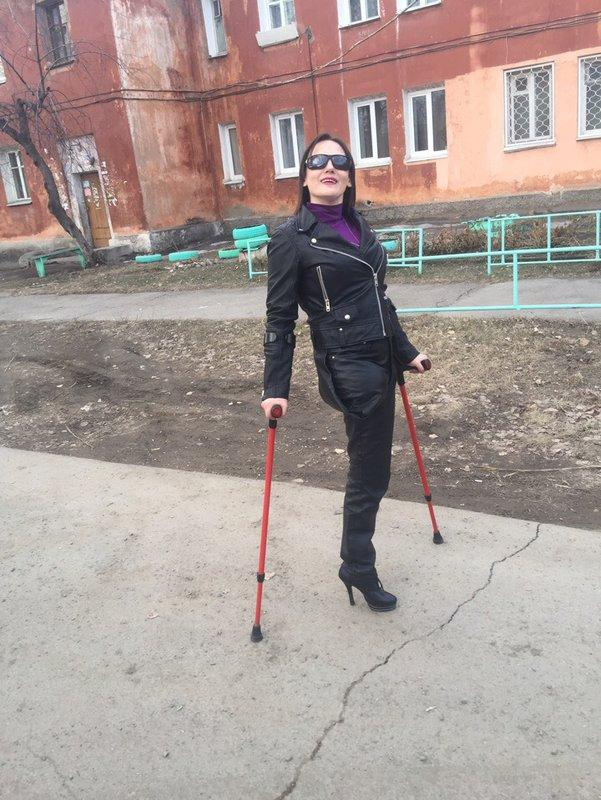crutches: (250, 133, 444, 643)
